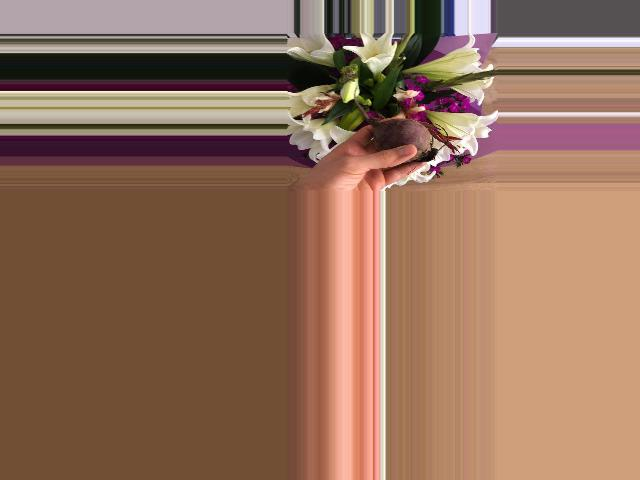beet: (354, 87, 448, 163)
